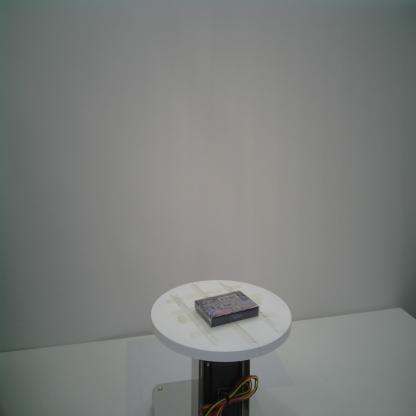Gum: (195, 290, 259, 328)
